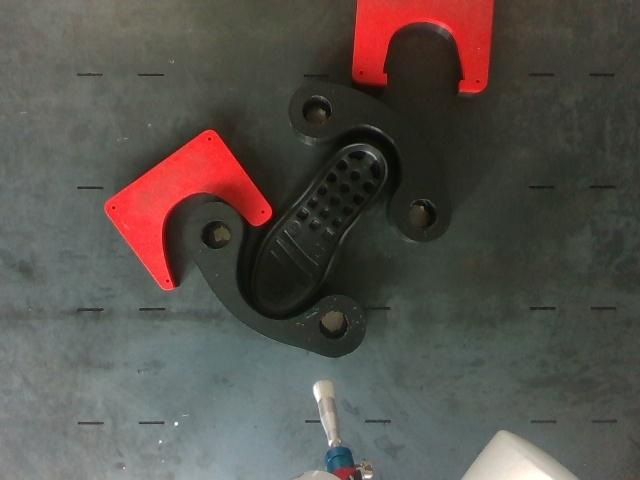shoes: (252, 144, 386, 315)
